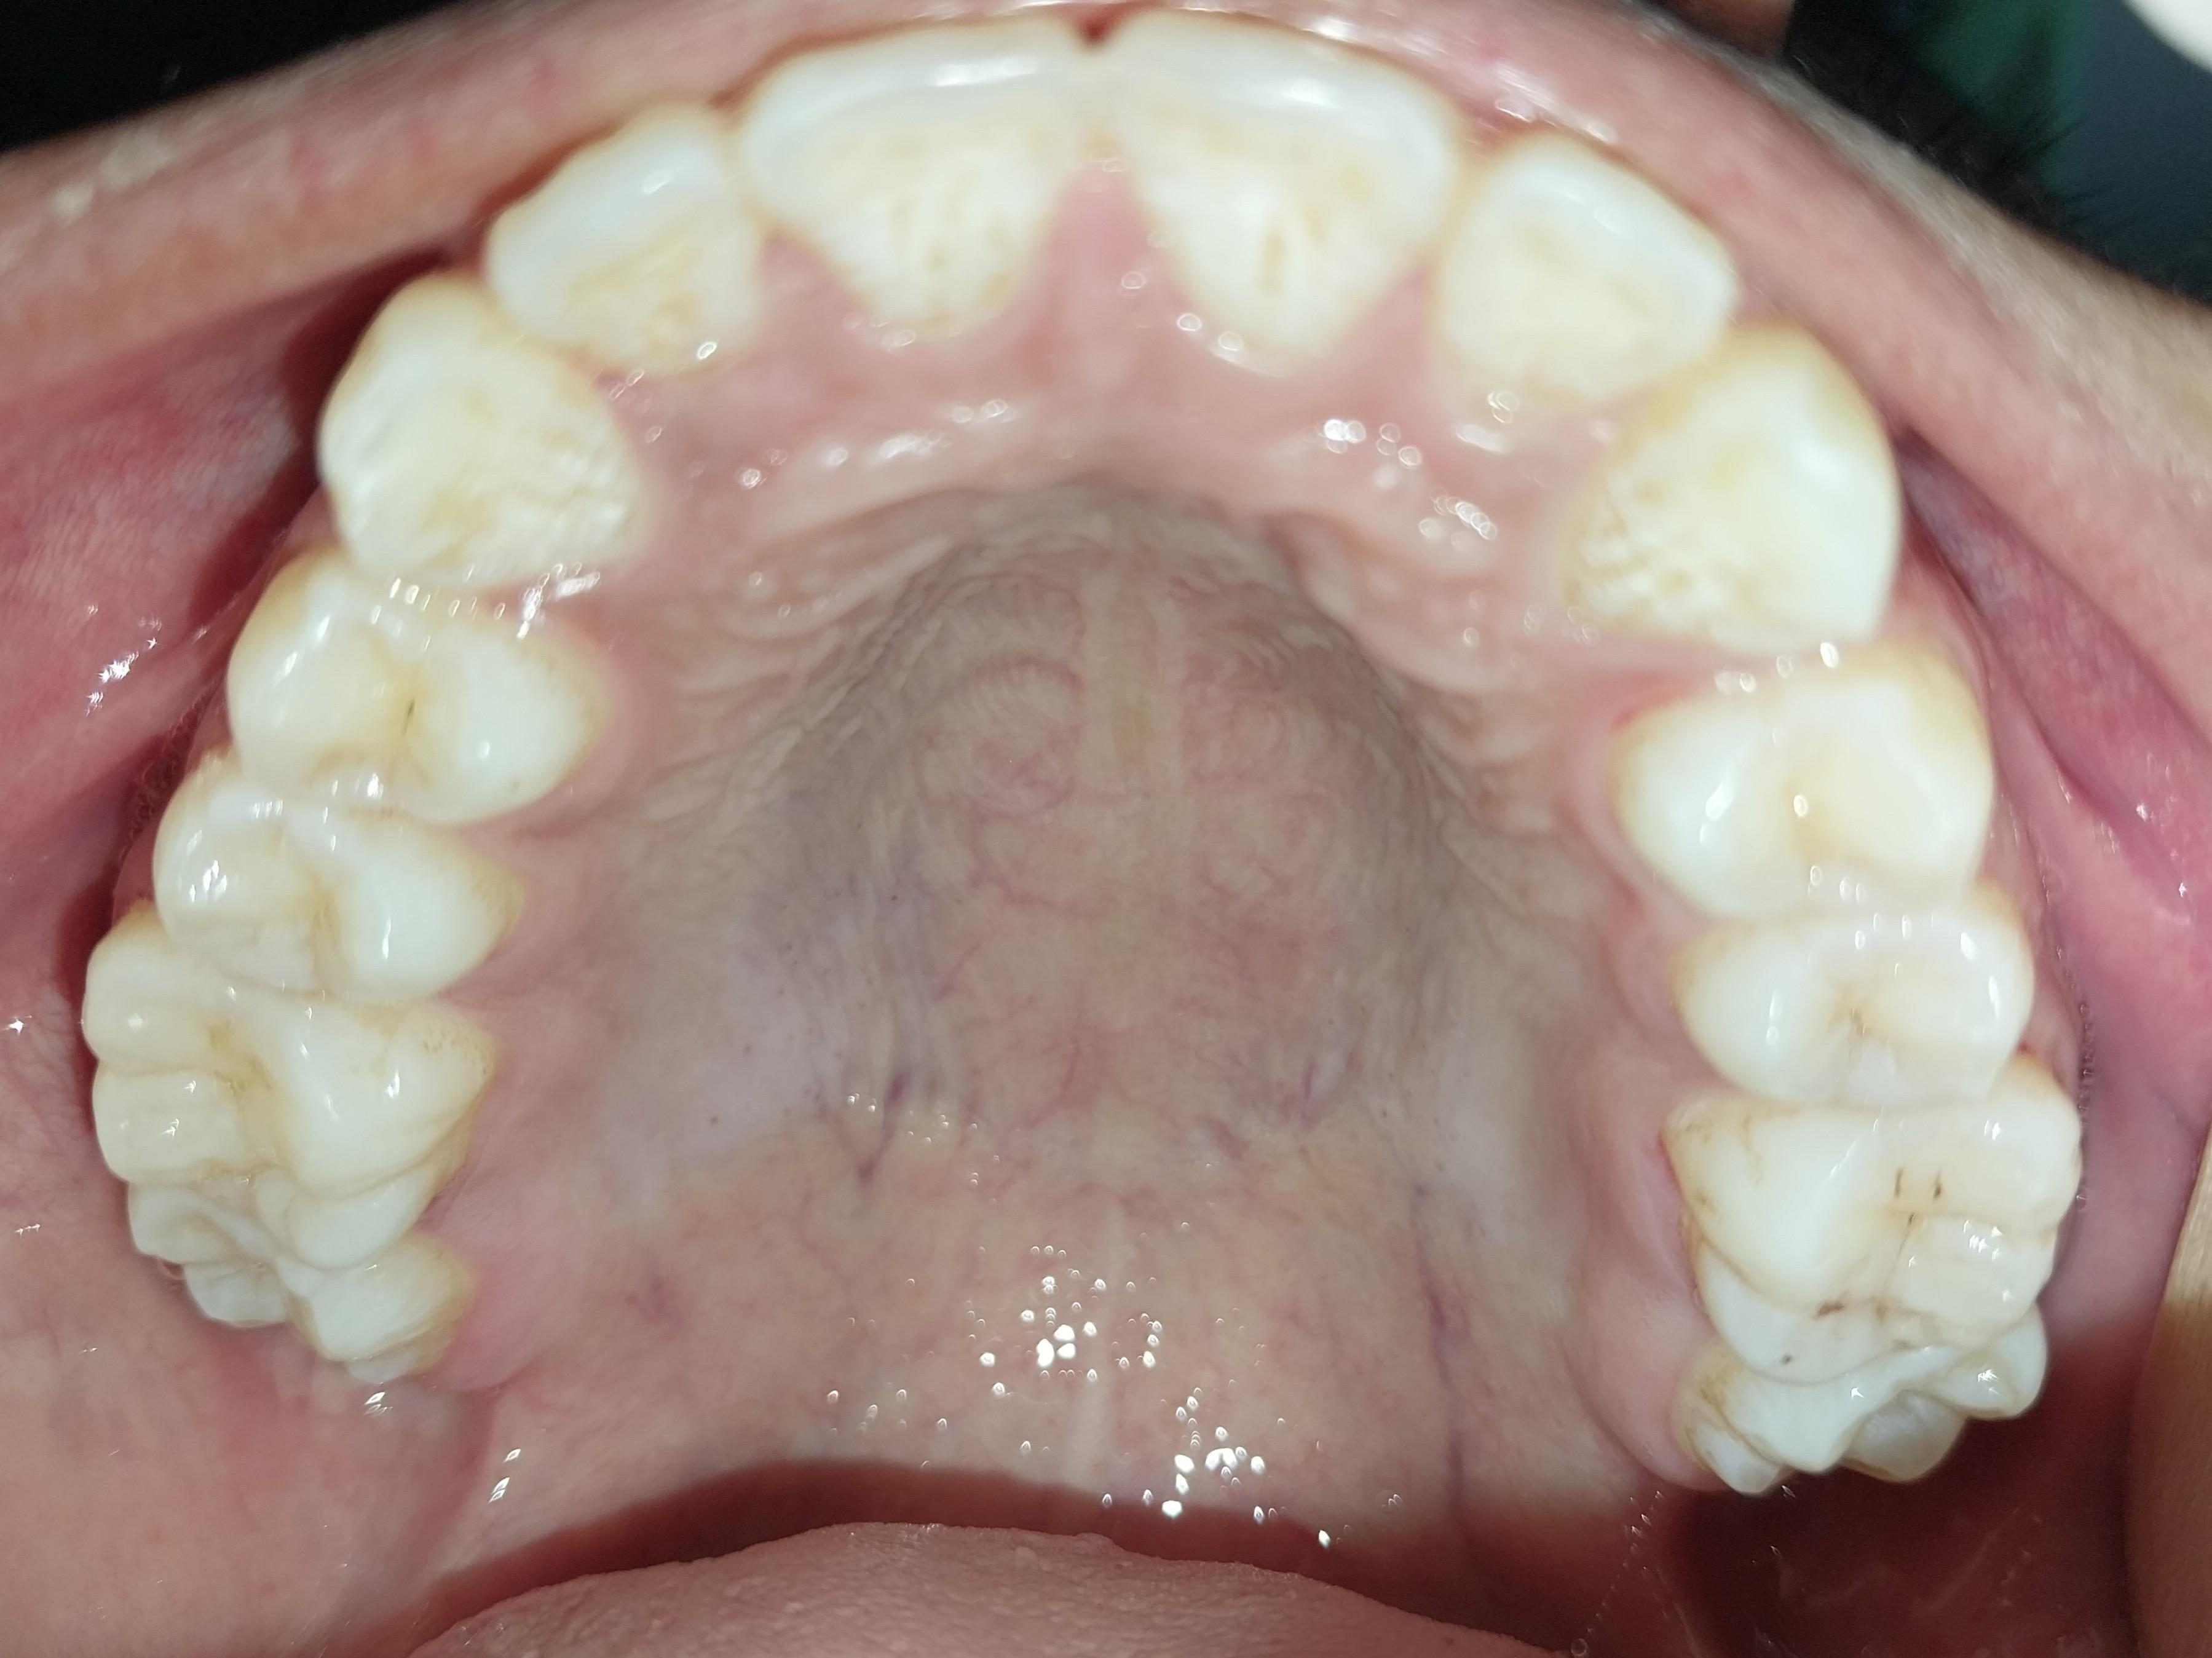D: (1656, 1091, 2090, 1393)
